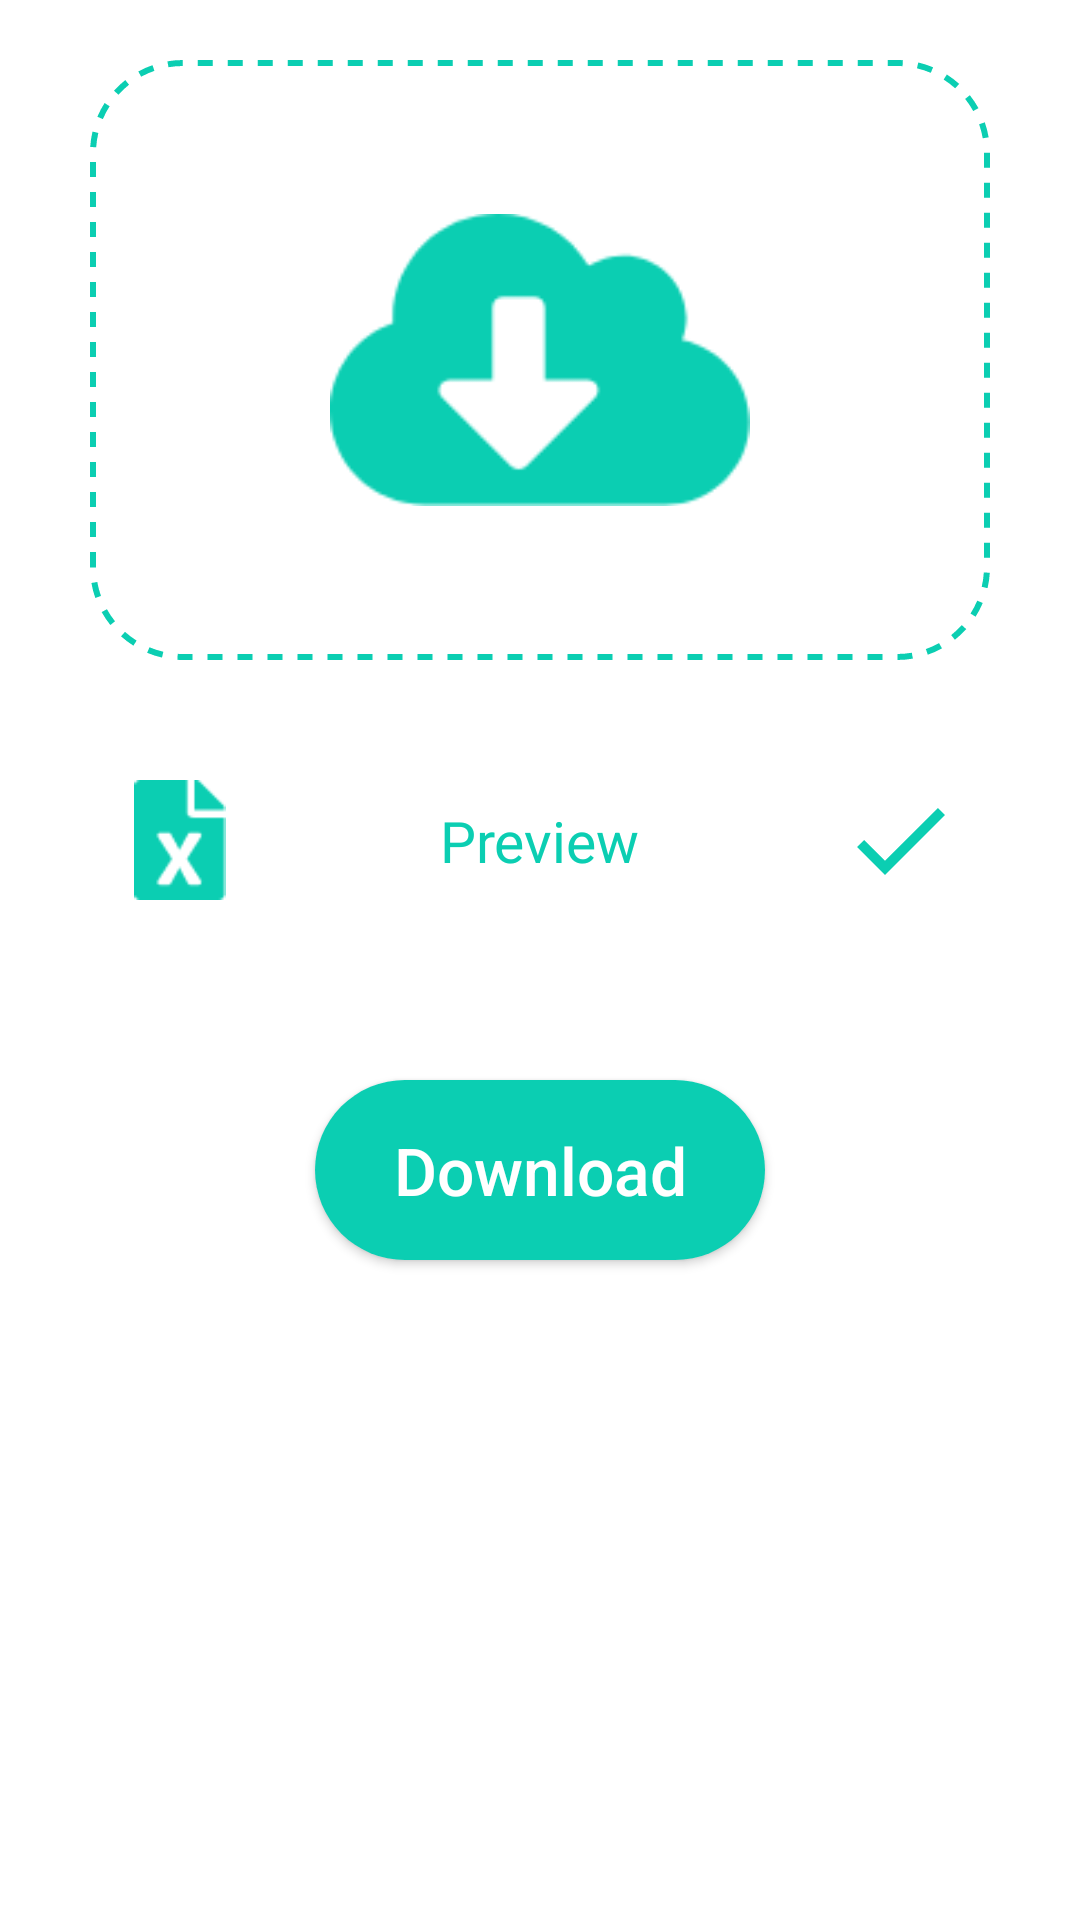

Where icons sit on this 1080 x 1920 app screen, as (x1, y1, x2, y2):
check: (857, 808, 945, 875)
fileiconsmall: (134, 780, 226, 900)
